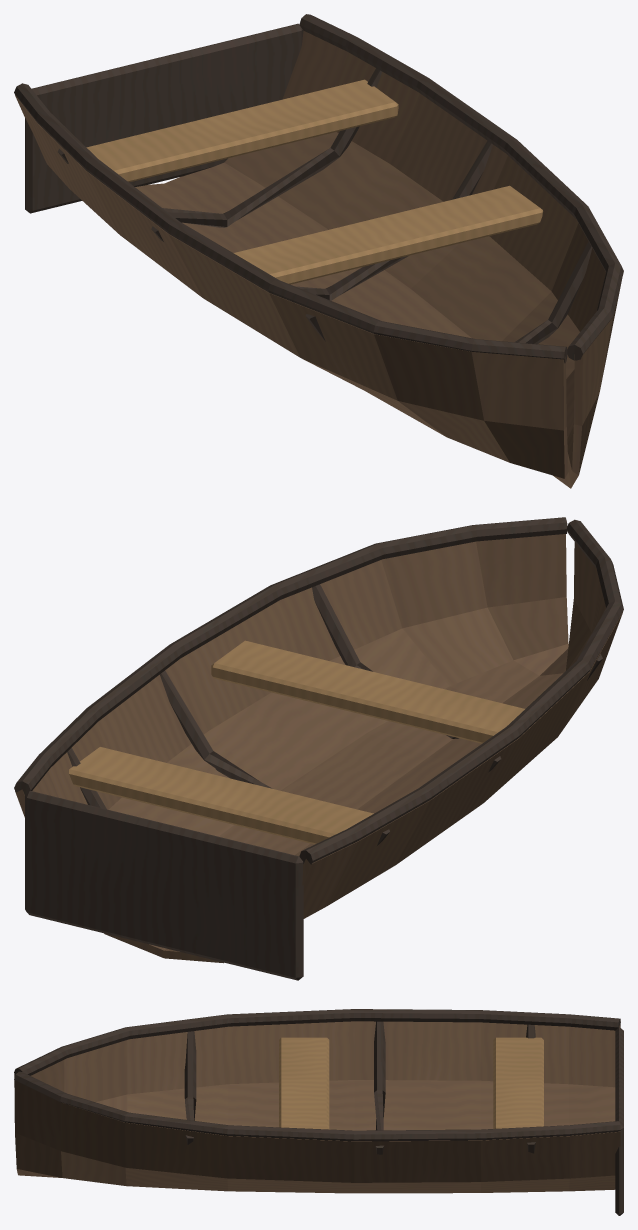
File: PR_FishingBoat.glb
3 renders of one model, top to bottom at view 1: azimuth 30°, elevation 25°; view 2: azimuth 150°, elevation 25°; view 3: azimuth 270°, elevation 25°, orthographic. The views are drawn at different scales.
Visible parts, largest first — view 1: PR_FishingBoat; view 2: PR_FishingBoat; view 3: PR_FishingBoat.
Part boxes in pixels (<box>): PR_FishingBoat: <box>14,14,623,488</box>; PR_FishingBoat: <box>14,517,623,980</box>; PR_FishingBoat: <box>14,1009,623,1215</box>.
Bounding box in the file's own units: 1.19 × 0.461 × 2.42.
Materials: 3 (3 with a texture image).
